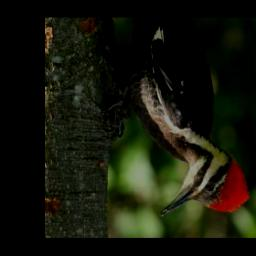Woodpecker: (104, 19, 249, 218)
